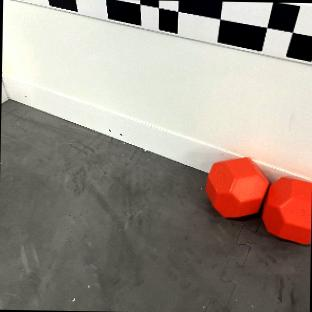V5_RED: (206, 157, 267, 217), (262, 176, 311, 243)
